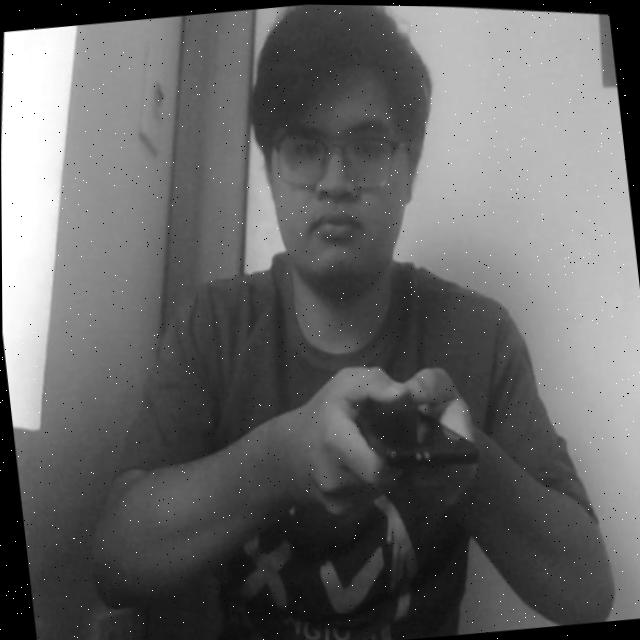phone: (326, 349, 503, 518)
